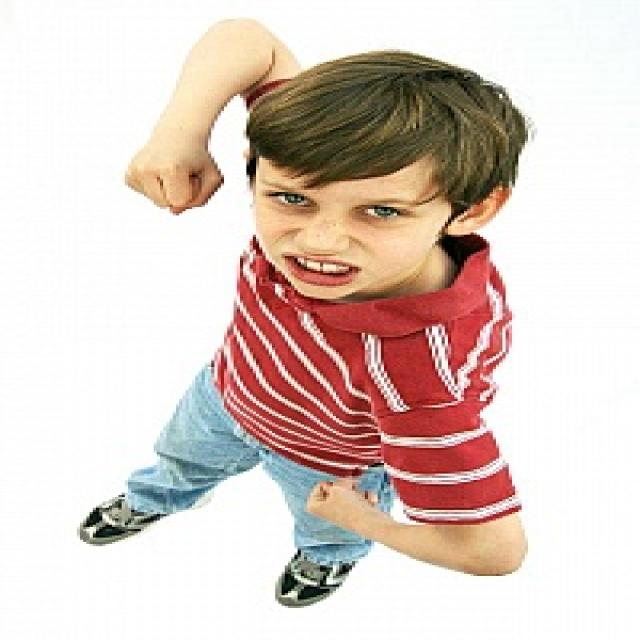Eyes: (255, 188, 440, 228)
